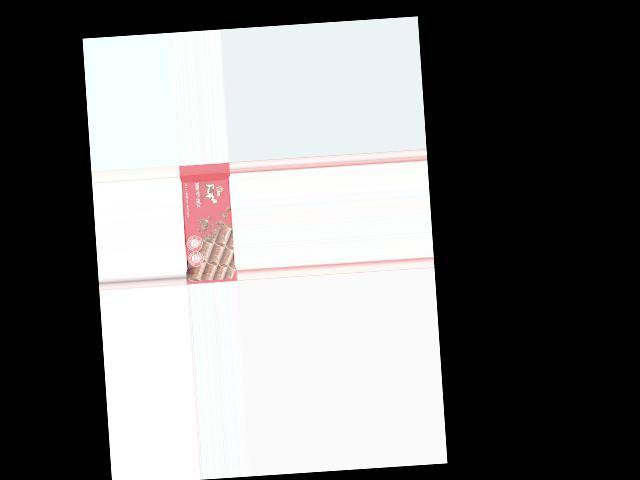chocolate: (178, 161, 236, 283)
